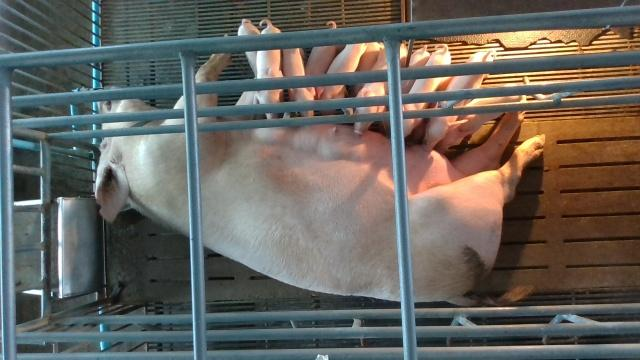piglet: (421, 50, 495, 151), (435, 83, 522, 151), (349, 43, 408, 136), (401, 44, 451, 137), (314, 43, 367, 116), (254, 18, 286, 119), (282, 48, 315, 117)
sow-sleep-lactate: (93, 35, 546, 308)
